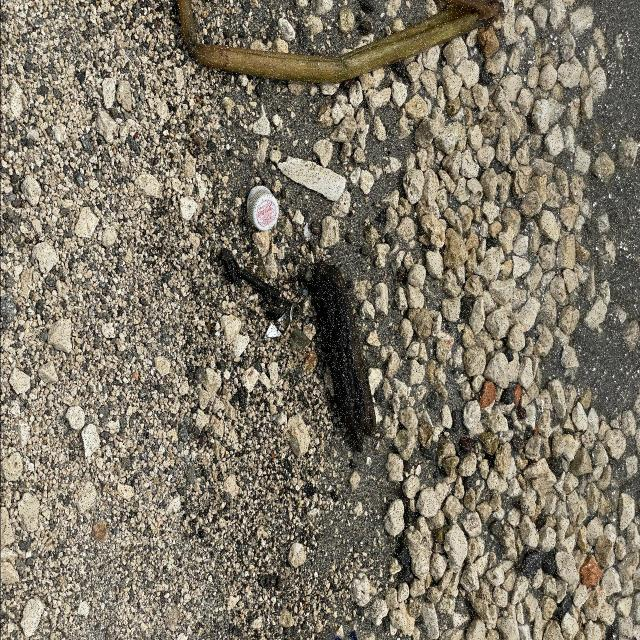plastic_waste: (247, 186, 280, 233)
wood_waste: (311, 261, 377, 455)
